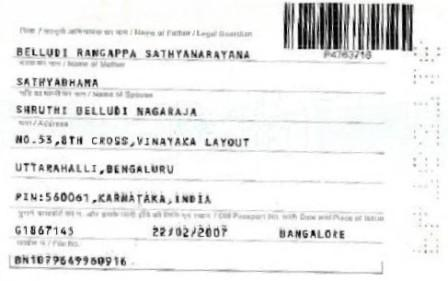File_no: (12, 253, 134, 267)
Surname: (12, 99, 202, 119)
address: (12, 130, 257, 209)
father_name: (13, 45, 255, 61)
mother_name: (12, 72, 132, 91)
old_passport_details: (10, 221, 352, 241)
passport_no: (317, 47, 377, 61)
